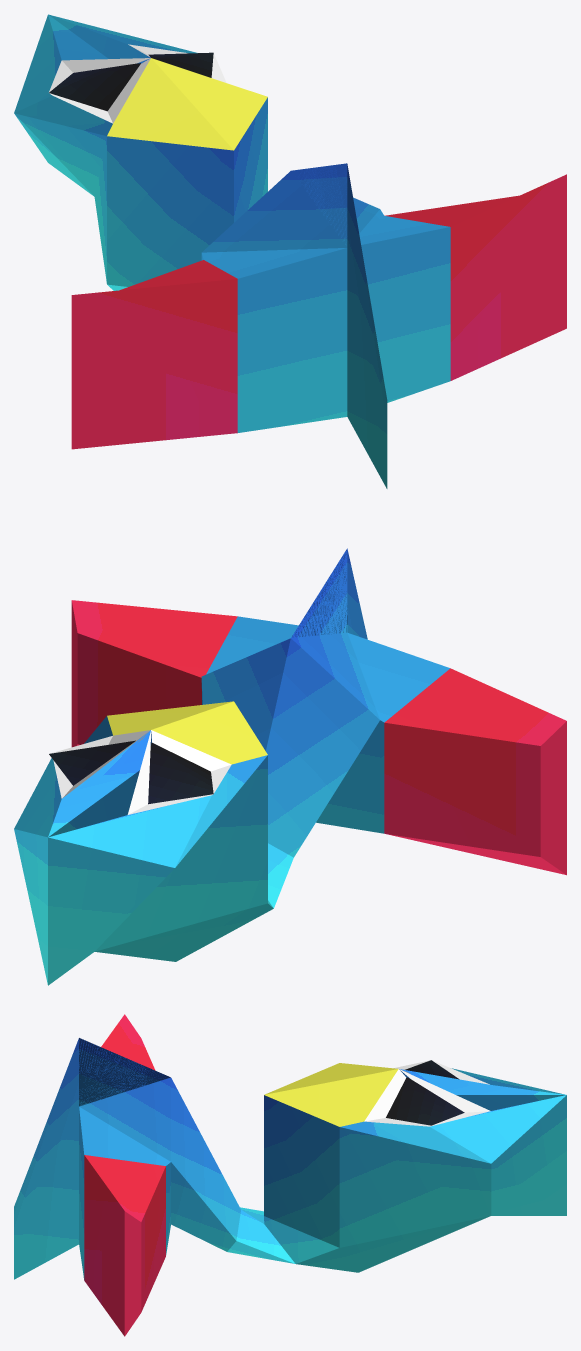
Rendered from DuckEnemy.fbx.
3 views of the same model, one above another, from view 1: azimuth 30°, elevation 25°; view 2: azimuth 150°, elevation 25°; view 3: azimuth 270°, elevation 25° (orthographic). The views are drawn at different scales.
Parts seen in each view (by area): view 1: DuckAngelMesh; view 2: DuckAngelMesh; view 3: DuckAngelMesh.
Boxes of the visible parts, x1,y1,x2,y2 form: DuckAngelMesh: (14,14,566,488); DuckAngelMesh: (14,548,566,985); DuckAngelMesh: (14,1014,566,1336).
Size of the model in its own units: 280 by 177 by 332.
